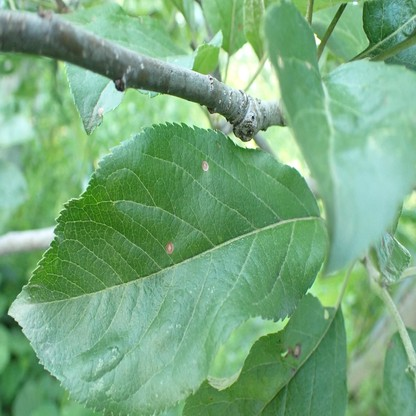frogeye_leaf_spot: (280, 343, 301, 358), (165, 242, 173, 255), (201, 161, 209, 172)
powdery_mildew: (9, 295, 49, 323)
